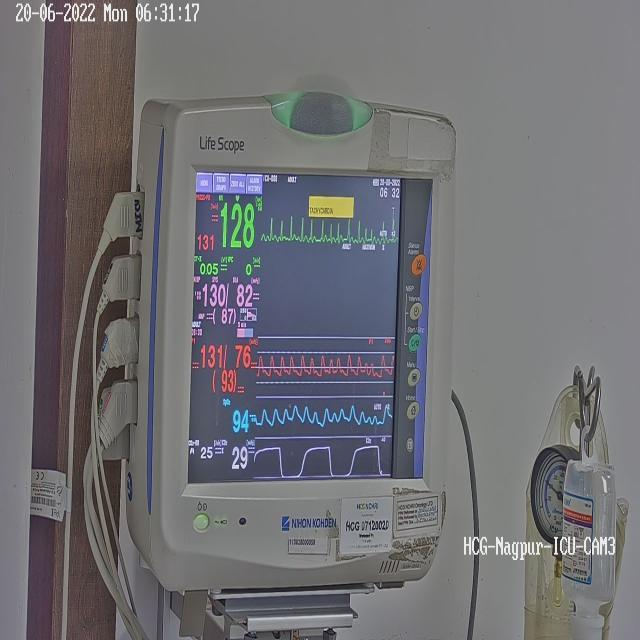Monitor: (82, 90, 459, 638)
Saline Stand: (499, 329, 640, 640)
